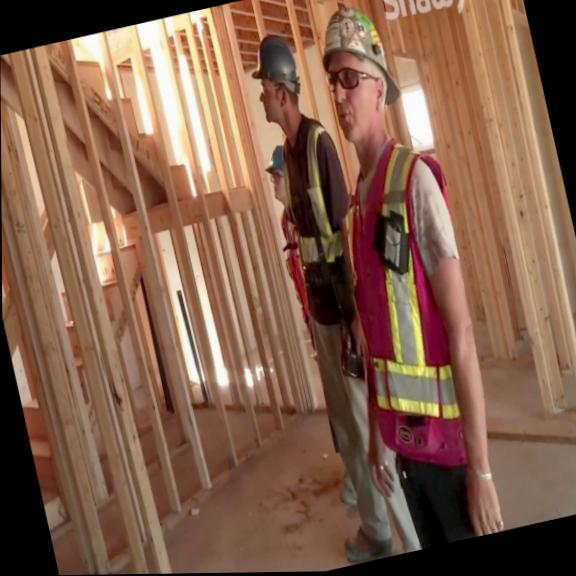safety_vest: (317, 123, 508, 484), (270, 110, 355, 268), (276, 202, 319, 328)
